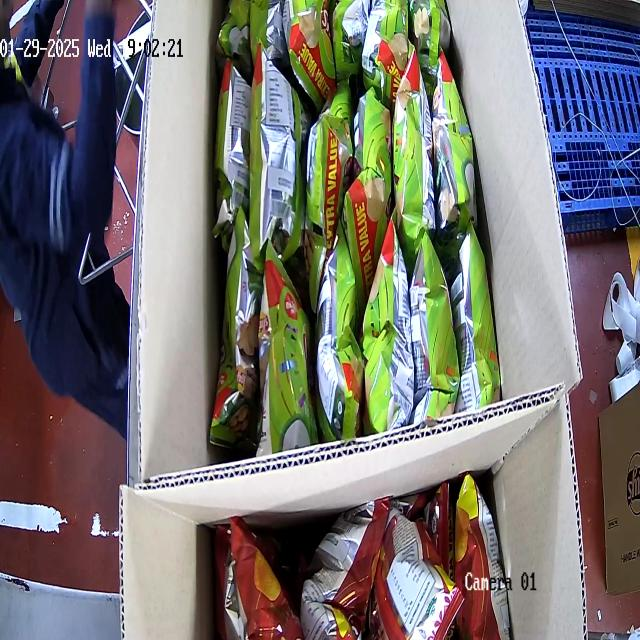YOGURT_HERB: (208, 0, 502, 455)
